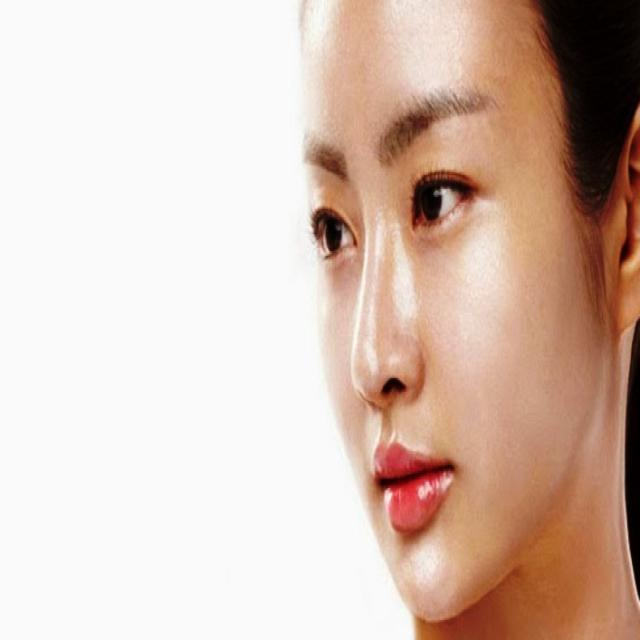oily: (376, 2, 485, 100), (350, 210, 386, 396), (388, 206, 420, 330)
